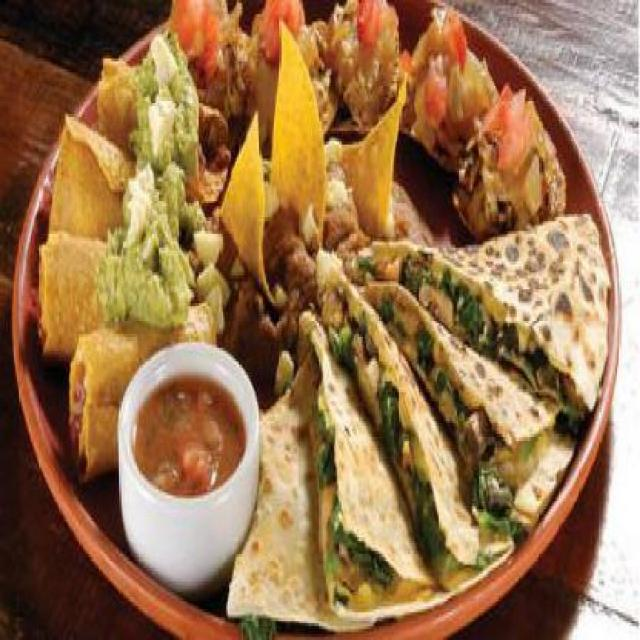chicken quesadilla: (220, 186, 620, 637)
guacamole: (96, 22, 206, 350)
nachos: (222, 73, 412, 290)
spring rolls: (35, 78, 228, 479)
